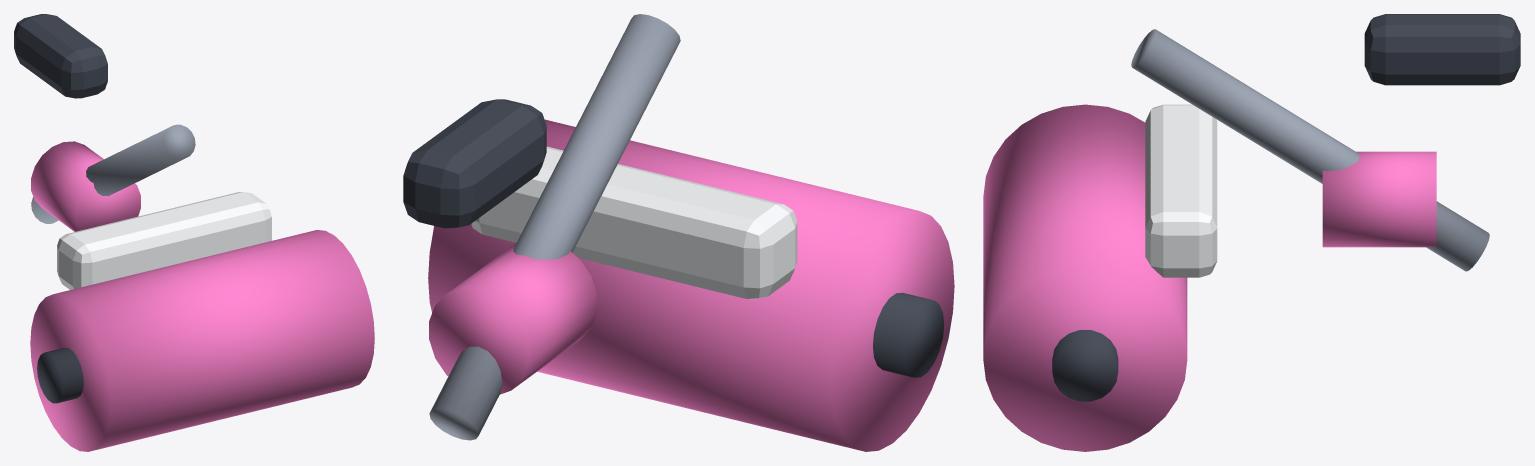
Rendered from roller.glb.
3 renders of one model, left to right at view 1: azimuth 30°, elevation 25°; view 2: azimuth 150°, elevation 25°; view 3: azimuth 270°, elevation 25°, orthographic. The views are drawn at different scales.
Parts seen in each view (by area): view 1: roller_drum, roller_guard, roller_tank, roller_grip, roller_handle, roller_axle; view 2: roller_drum, roller_guard, roller_handle, roller_tank, roller_grip, roller_axle; view 3: roller_drum, roller_handle, roller_guard, roller_grip, roller_tank, roller_axle.
Boxes of the visible parts, box(x1,y1,x2,y2) form: roller_drum: box(30, 230, 374, 451); roller_guard: box(57, 192, 271, 289); roller_tank: box(31, 141, 140, 231); roller_grip: box(14, 14, 107, 98); roller_handle: box(31, 124, 195, 223); roller_axle: box(37, 347, 83, 403); roller_drum: box(428, 119, 954, 451); roller_guard: box(471, 146, 797, 299); roller_handle: box(429, 14, 680, 440); roller_tank: box(429, 243, 597, 394); roller_grip: box(403, 99, 546, 228); roller_axle: box(873, 292, 944, 377); roller_drum: box(983, 104, 1187, 451); roller_handle: box(1131, 29, 1489, 271); roller_guard: box(1145, 104, 1217, 277); roller_grip: box(1364, 14, 1520, 85); roller_tank: box(1322, 151, 1436, 247); roller_axle: box(1052, 330, 1118, 401).
Bounding box in the file's own units: 1.48 × 1.29 × 1.79.
